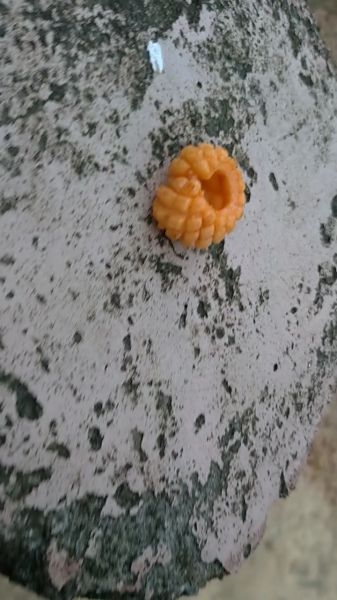eggs: (148, 136, 253, 249)
